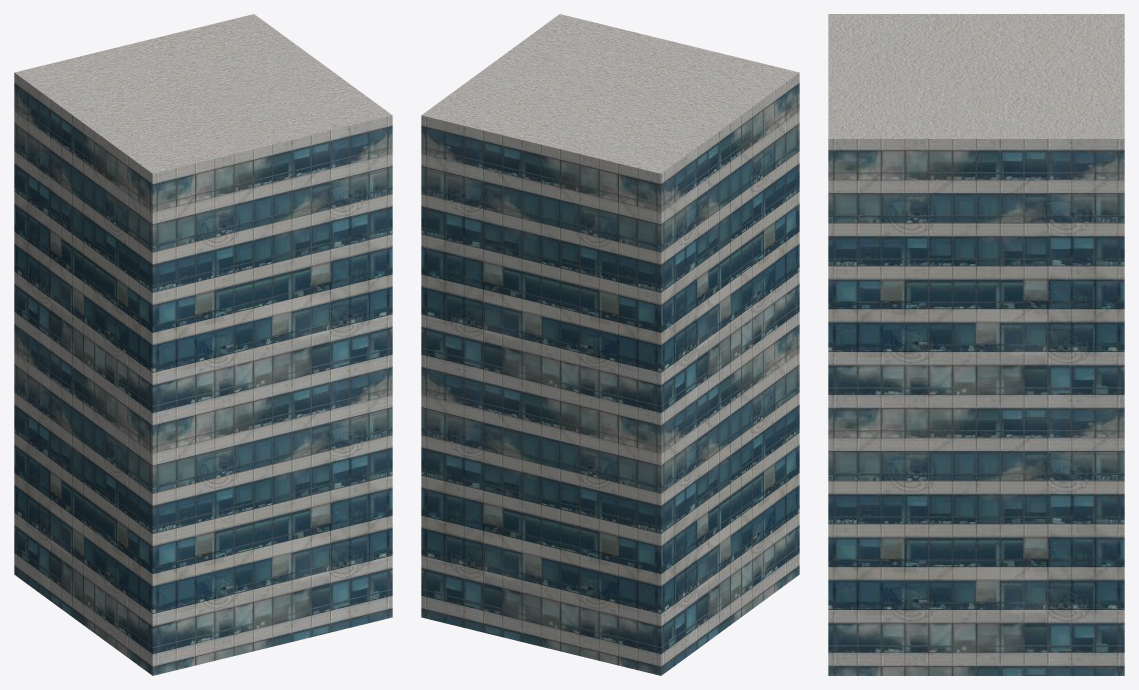
The model's file is building_026.glb.
The picture shows the model from 3 angles, left to right: view 1: azimuth 30°, elevation 25°; view 2: azimuth 150°, elevation 25°; view 3: azimuth 270°, elevation 25°; orthographic projection. The views are drawn at different scales.
Parts seen in each view (by area): view 1: building_026; view 2: building_026; view 3: building_026.
Boxes of the visible parts, box(x1,y1,x2,y2) form: building_026: box(14, 14, 392, 675); building_026: box(421, 14, 799, 675); building_026: box(828, 14, 1124, 675).
Bounding box in the file's own units: 1500 × 3000 × 1500.
Materials: 2 (2 with a texture image).
